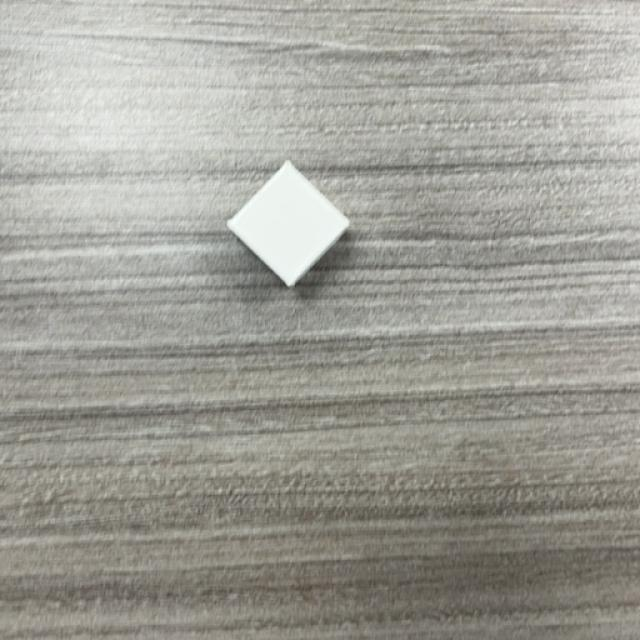Blanco: (225, 162, 350, 289)
